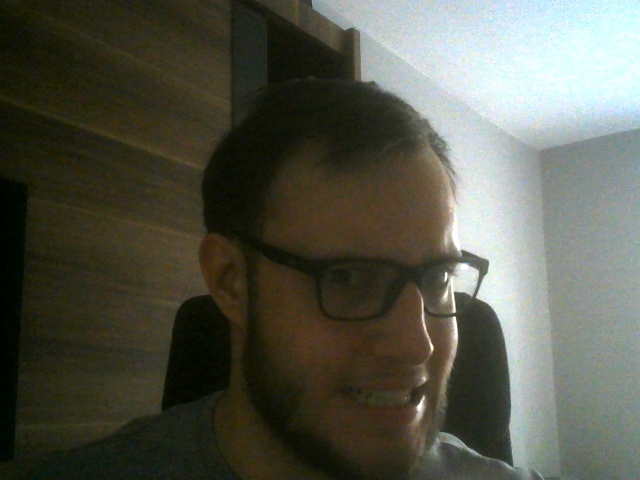angry: (200, 83, 490, 480)
